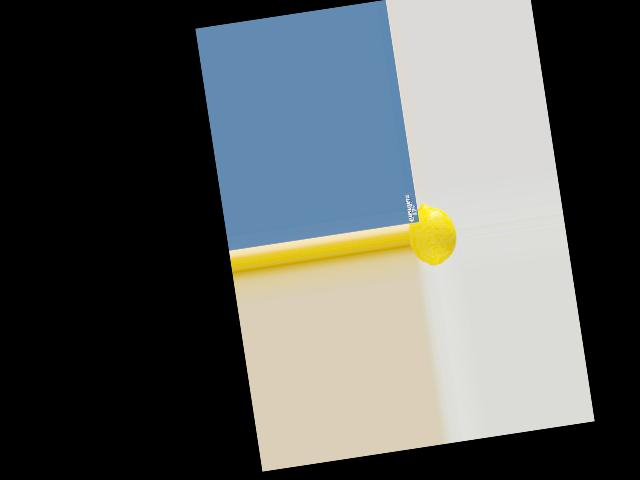lemon: (402, 190, 462, 278)
